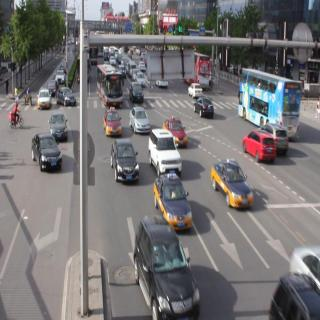BigCar: (238, 68, 299, 136), (95, 66, 125, 104), (196, 50, 213, 88)
Car: (135, 217, 201, 320), (210, 157, 253, 215), (153, 171, 194, 227), (148, 128, 181, 175), (108, 138, 140, 184), (33, 132, 62, 176), (243, 129, 273, 165), (165, 115, 191, 147), (266, 120, 290, 152), (49, 111, 69, 143), (103, 106, 122, 136), (193, 97, 215, 121), (57, 85, 77, 109), (37, 84, 53, 109), (130, 84, 147, 104), (188, 79, 203, 99), (156, 76, 169, 92), (55, 68, 66, 85), (111, 54, 117, 67)
